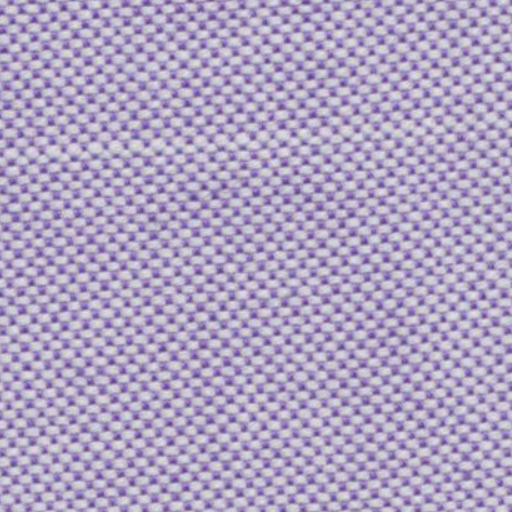TuoSha: (28, 102, 496, 194)
